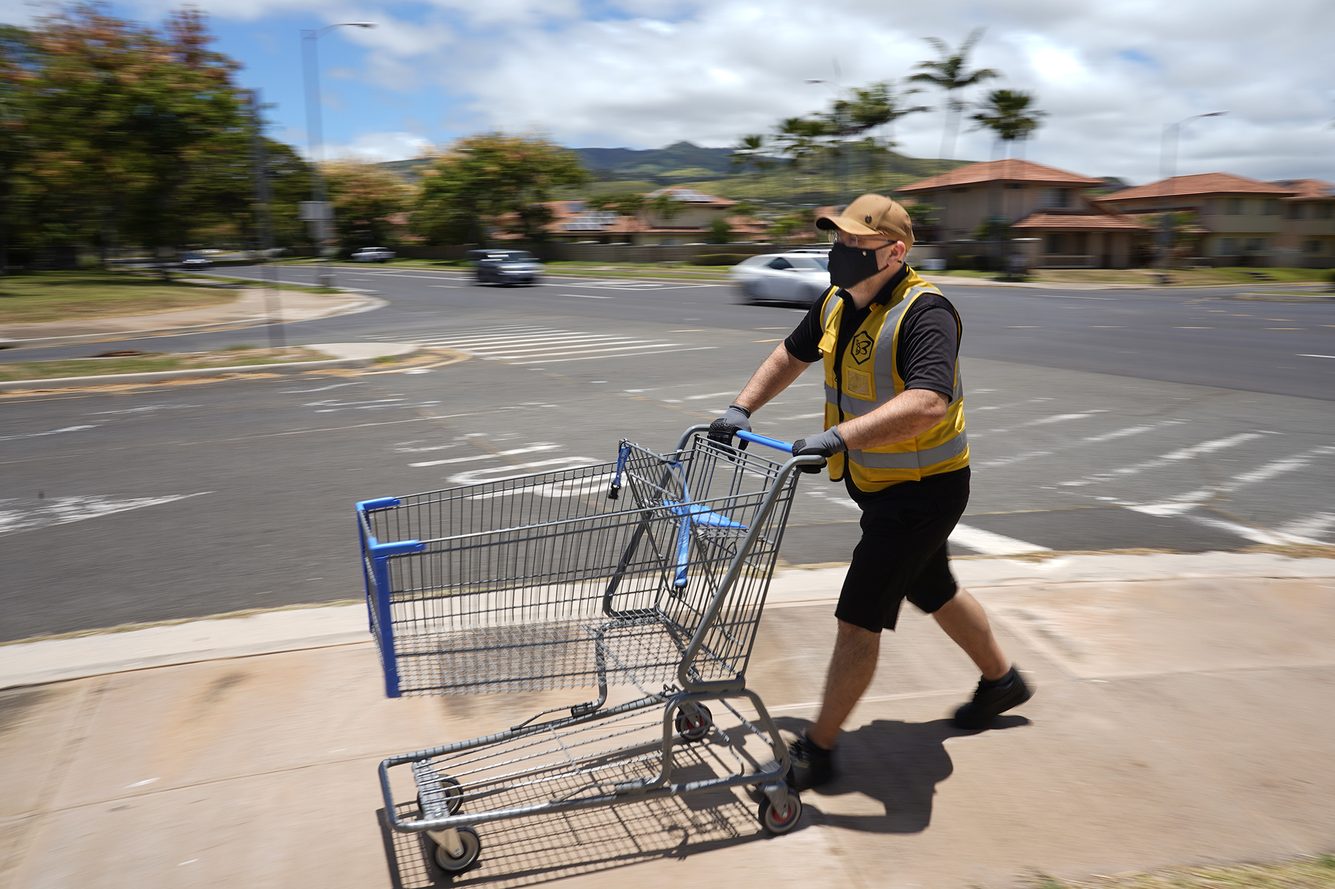Person: (756, 194, 1056, 798)
shopping_cart: (348, 432, 816, 862)
